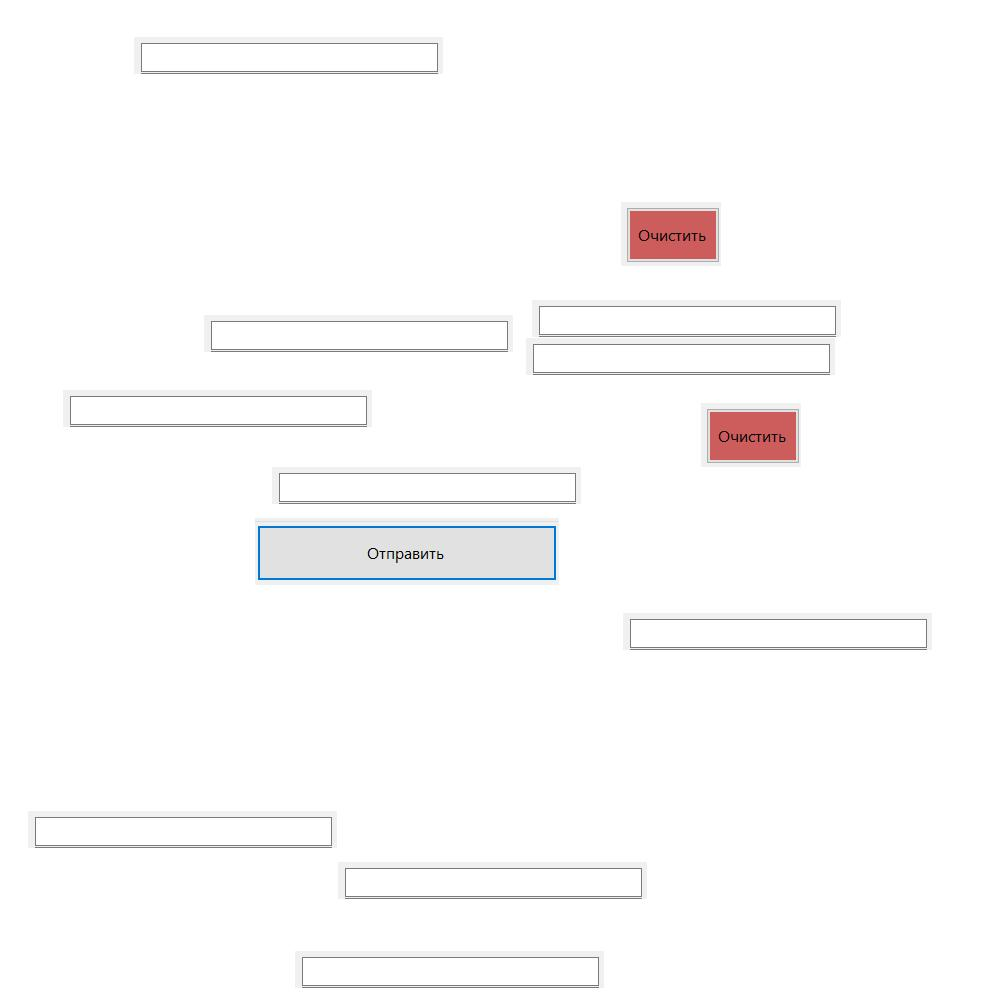Button: (255, 518, 559, 585), (701, 403, 801, 467), (621, 202, 721, 266)
EditText-: (272, 467, 581, 504), (526, 338, 835, 375), (623, 613, 932, 650), (204, 315, 513, 352), (532, 300, 841, 337), (134, 37, 443, 74), (28, 811, 337, 848), (295, 951, 604, 988), (338, 862, 647, 899), (63, 390, 372, 427)
